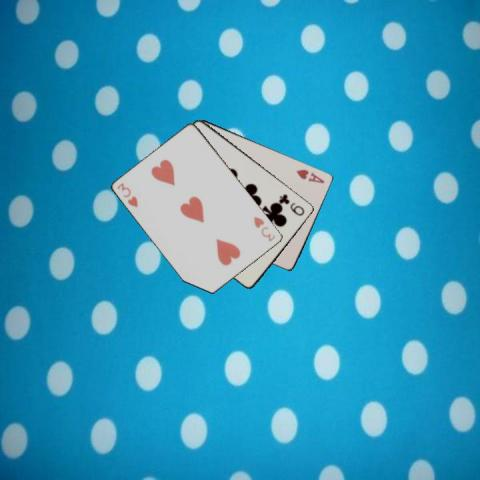3h: (250, 213, 276, 243), (114, 180, 139, 209)
9c: (277, 191, 306, 217)
Ah: (293, 166, 326, 185)
